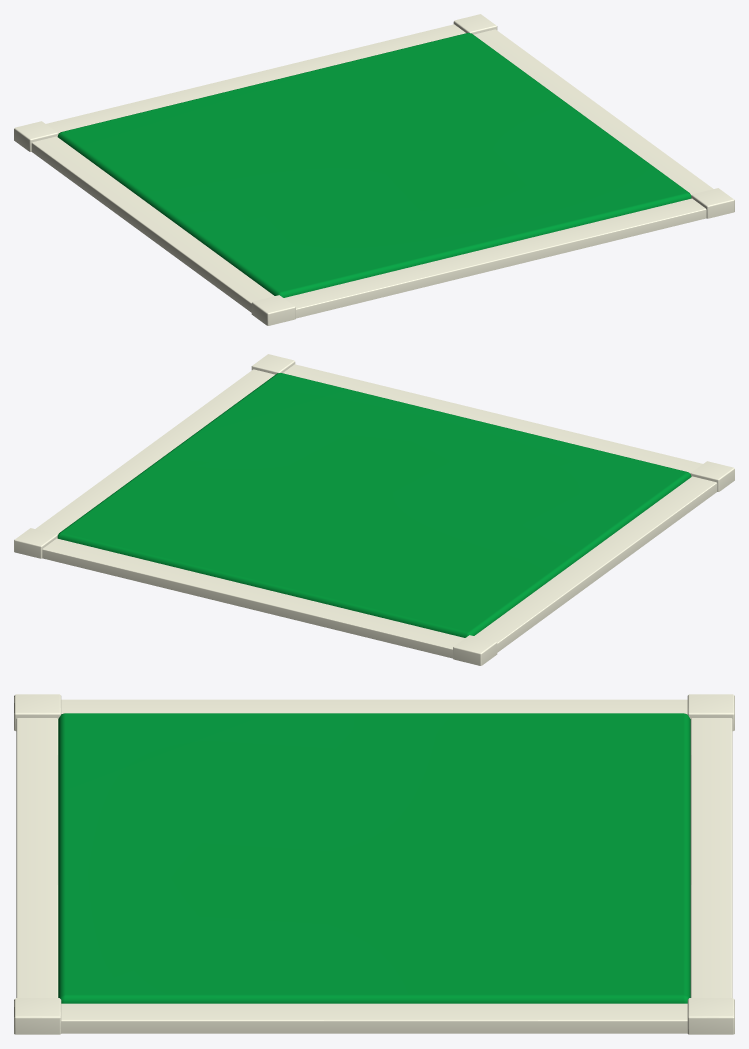
The model's file is Town_5_Ground_1.glb.
3 views of the same model, one above another, from view 1: azimuth 30°, elevation 25°; view 2: azimuth 150°, elevation 25°; view 3: azimuth 270°, elevation 25° (orthographic). The views are drawn at different scales.
Visible parts, largest first — view 1: Town_5_Ground_1; view 2: Town_5_Ground_1; view 3: Town_5_Ground_1.
Boxes of the visible parts, x1=… form: Town_5_Ground_1: x1=14, y1=14, x2=734, y2=325; Town_5_Ground_1: x1=14, y1=354, x2=734, y2=665; Town_5_Ground_1: x1=14, y1=694, x2=734, y2=1034.
Bounding box in the file's own units: 11.82 × 0.3273 × 11.13.
1 material, 1 textured.
